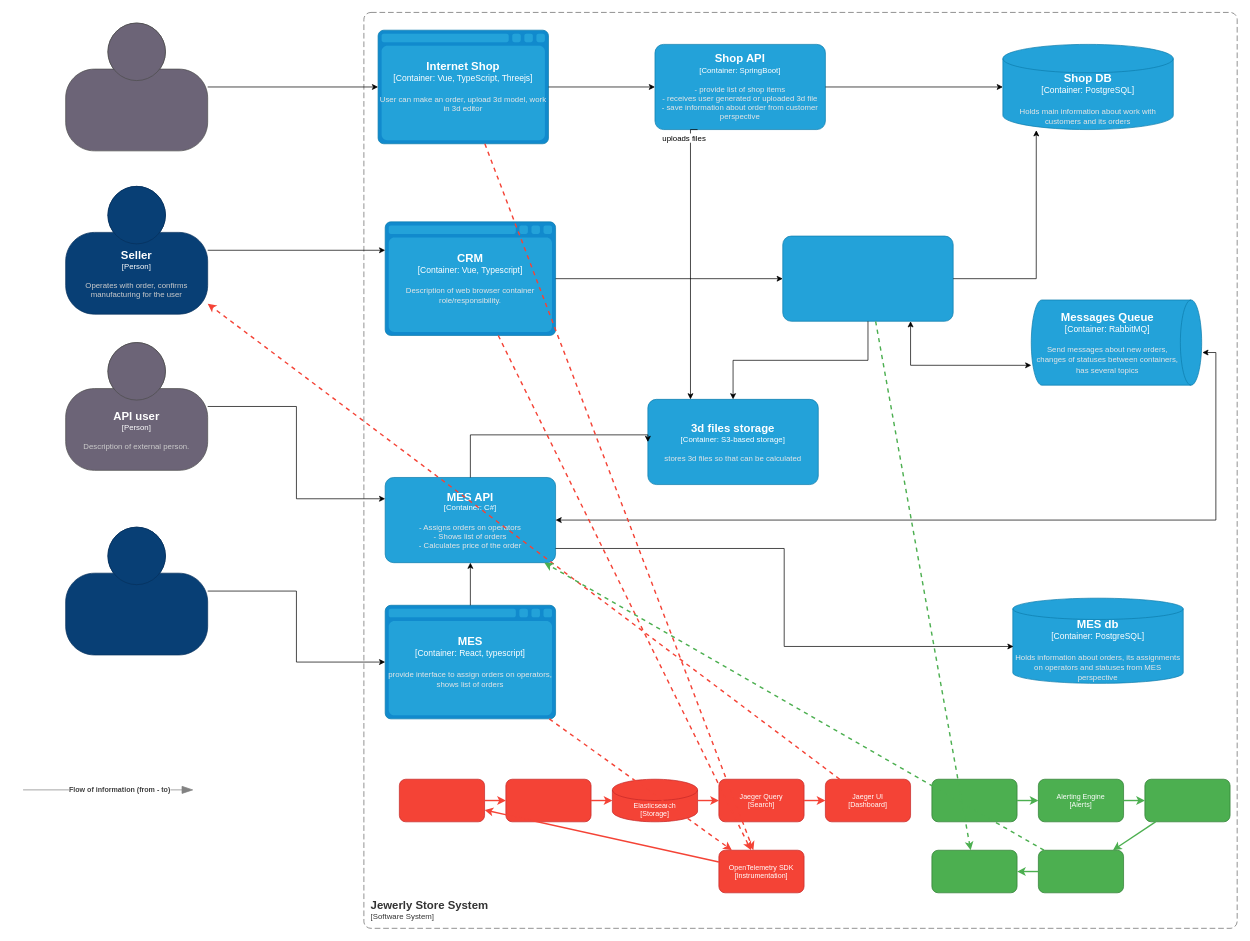
Image size: 1250x941. Some labels were removed from this diagram. The centre of each missing label's shape, as x and y in pixels:
"Automation Engine [Actions]" goes at point 1187,800.
"CRM API [Container: SpringBoot] Description of container role/responsibility." goes at point 867,278.
"Customer [Person] Description of external person." goes at point 136,86.
"Jaeger Agent [Tracing]" goes at point 442,800.
"Jaeger Collector [Tracing]" goes at point 548,800.
"Notification Service [Notifications]" goes at point 974,871.
"Operator [Person] Takes order in work, manufactures jewerly" goes at point 136,590.
"Pattern Analyzer [Analysis]" goes at point 1081,871.
"SLA Monitor [Monitoring]" goes at point 974,800.
